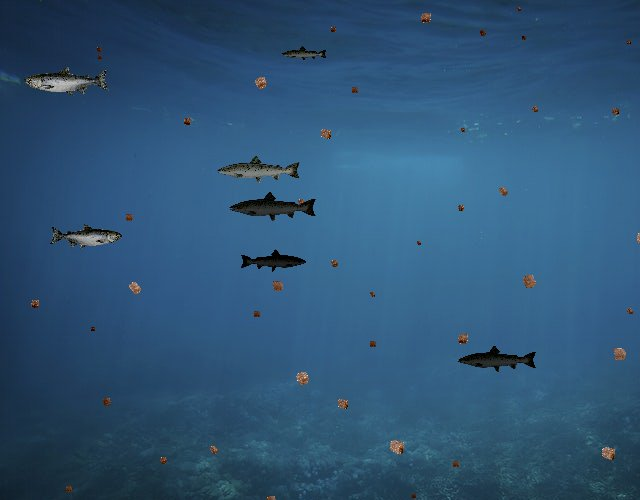Fish: (229, 190, 319, 223), (216, 154, 302, 185), (24, 66, 110, 97), (458, 344, 539, 373), (49, 224, 122, 250), (240, 248, 308, 273), (282, 45, 329, 62)
Pellet: (314, 123, 337, 146), (493, 181, 513, 201), (179, 113, 196, 130), (366, 337, 380, 351), (93, 44, 106, 57), (458, 124, 468, 134)
